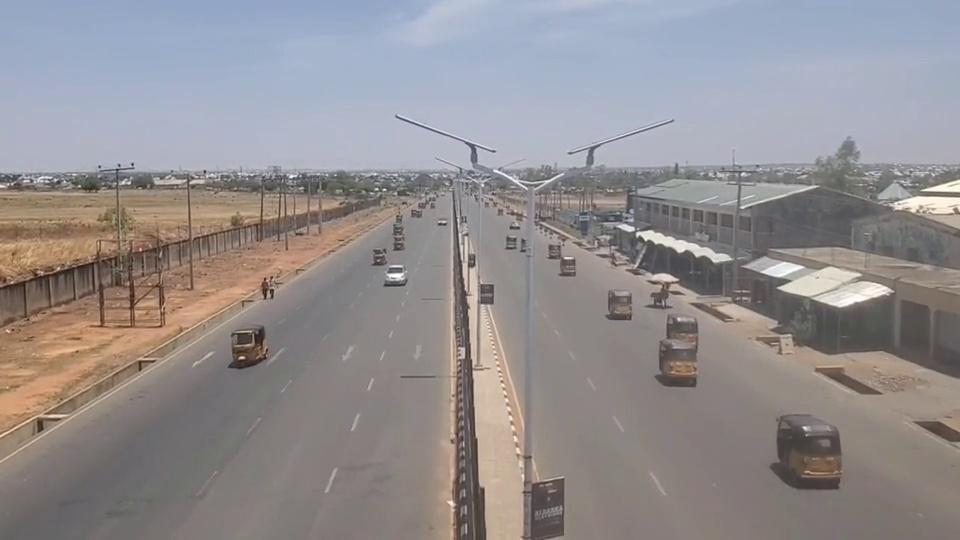keke: (774, 413, 842, 486), (229, 324, 268, 367)
